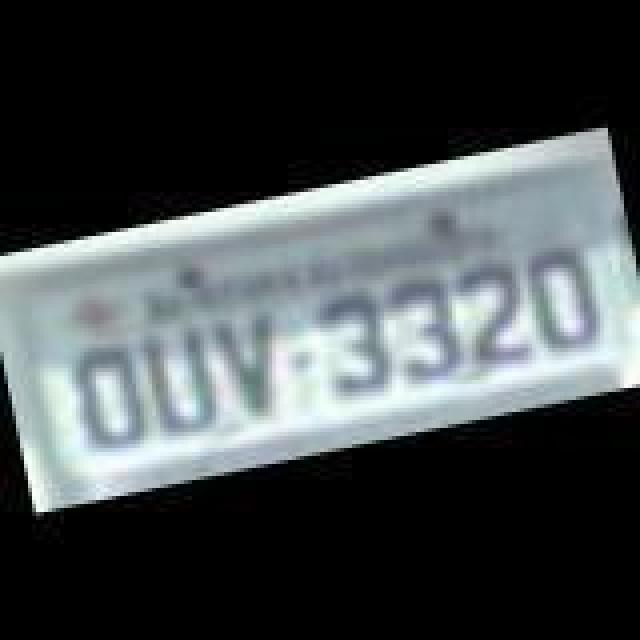2: (444, 250, 532, 374)
3: (308, 286, 404, 402), (378, 270, 462, 386)
O: (62, 326, 154, 458), (516, 234, 604, 358)
U: (134, 314, 218, 438)
V: (198, 304, 282, 424)
